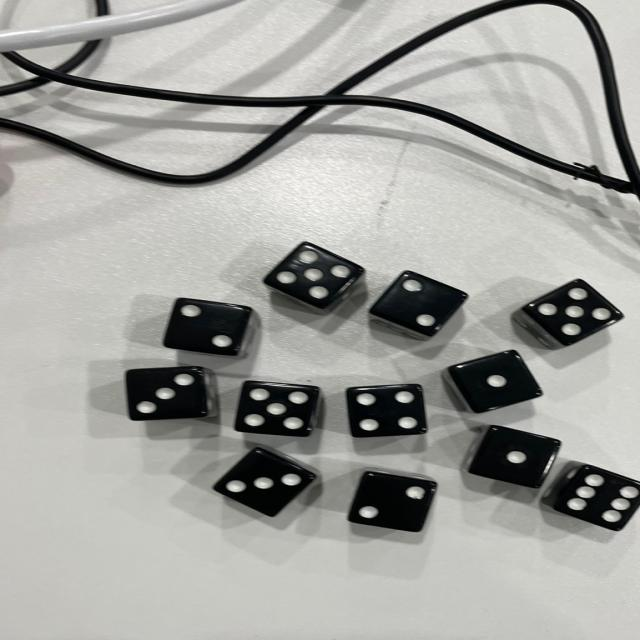DICE1: (474, 428, 553, 480), (452, 353, 532, 402)
DICE2: (347, 470, 431, 530), (380, 275, 457, 332), (165, 299, 246, 352)
DICE3: (218, 453, 306, 511), (126, 368, 204, 420)
DICE4: (348, 388, 430, 435)
DICE5: (266, 242, 356, 304), (525, 280, 620, 337), (239, 380, 321, 438)
DICE6: (560, 463, 640, 529)
